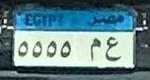5: (58, 40, 73, 59), (31, 41, 44, 58), (17, 39, 29, 57), (46, 40, 57, 57)
ain: (103, 36, 121, 61)
meem: (88, 37, 102, 61)
